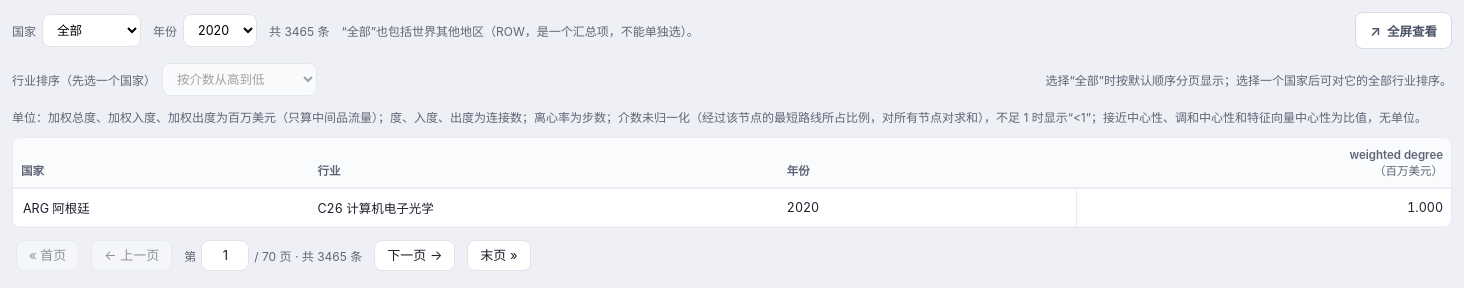
Test case: RSTEP02 step 5 global-to-country loading/error cannot use the global page count; retry returns country rows
This screenshot has width=1464, height=288.
Expected: the number of column headings with class "indicator-row-header" is 1, 13,189 -> 310,226
Expected: the button "下一页 →" is shown, 374,240 -> 455,271
Select "CHN 中国" in the dropdown labelled "国家" at (92, 30), box 42,14 -> 141,47
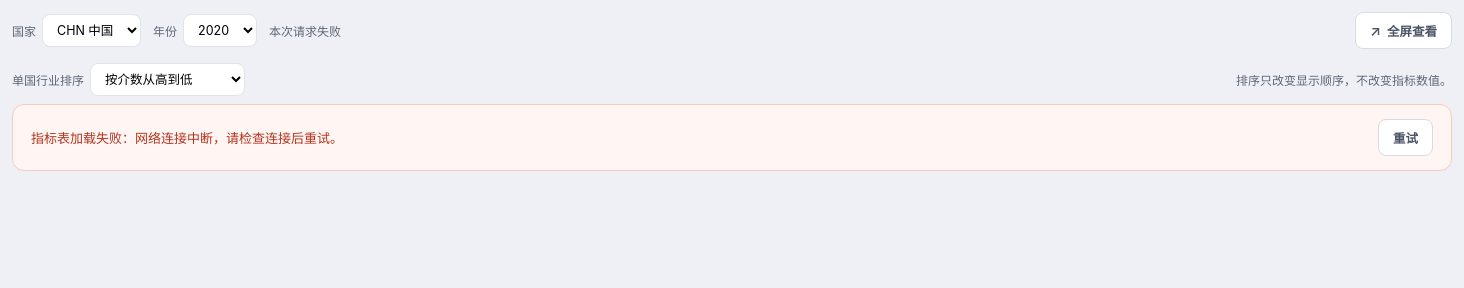
Result: the field labelled "跳转页码" is gone
Result: the message "指标表加载失败：网络连接中断，请检查连接后重试。 重试" is shown at 12,104 -> 1452,171
Result: the button "下一页 →" is gone
Click the button "重试".
click(1406, 138)  # box 1378,119 -> 1433,156
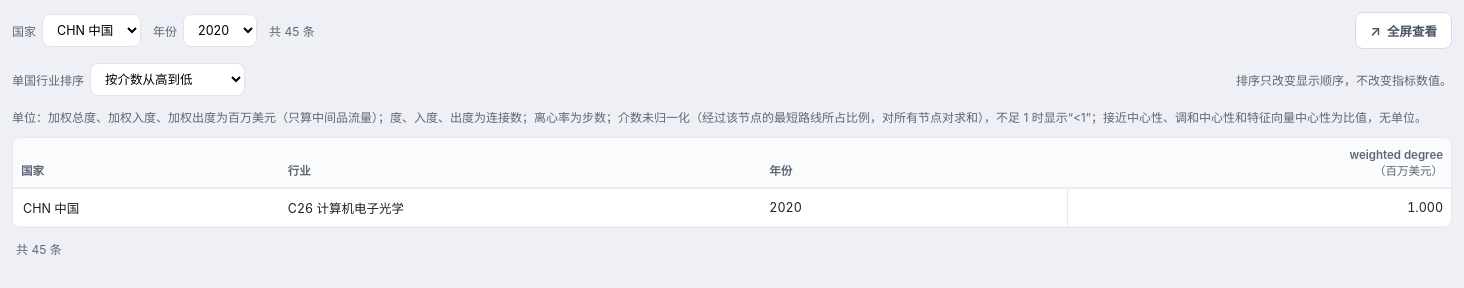
Result: the number of column headings with class "indicator-row-header" is 1 at 13,189 -> 280,226
Result: the element showing "共 45 条" is shown at 16,242 -> 62,257
Result: the table shows "CHN" at 23,201 -> 79,216
